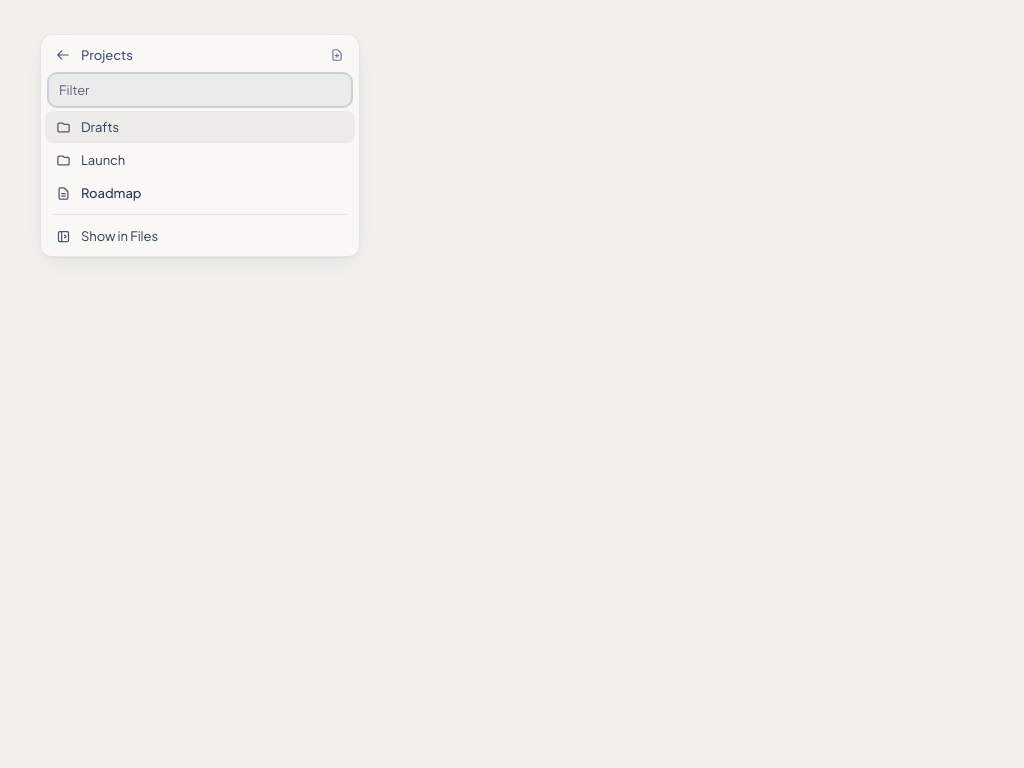
it: FolderPopover › backs out of naming with Escape, keeping the popover open
Step 1. Click the button named "New File" → (337, 55), box [323,41,351,69]
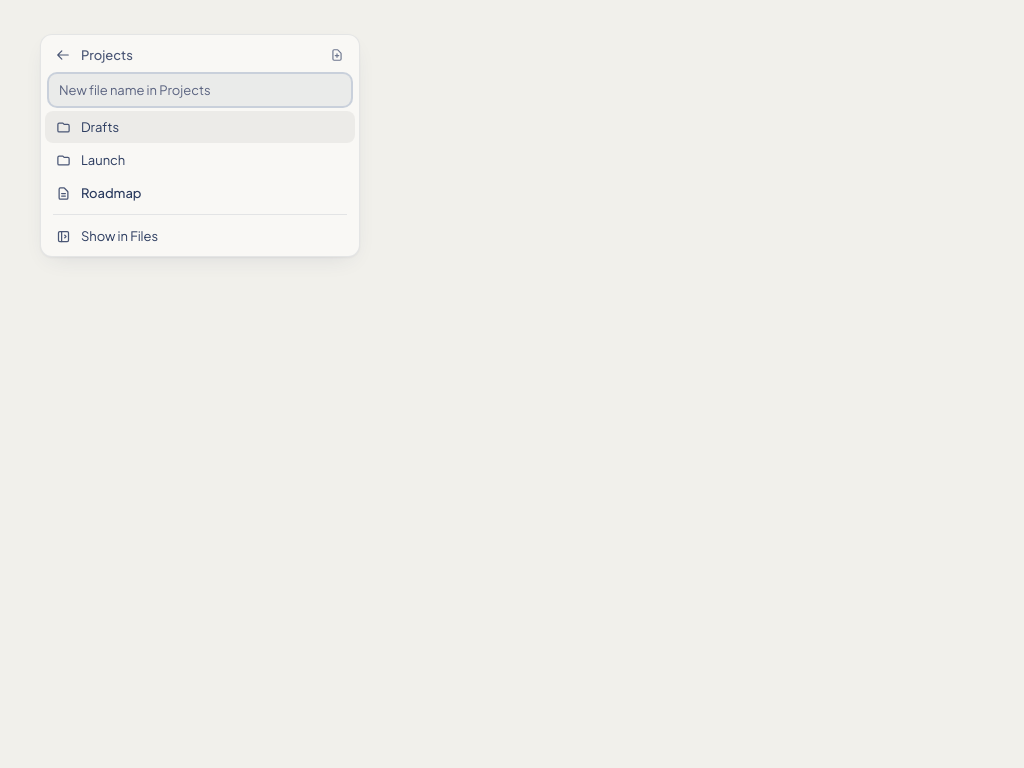
Step 2. Press Escape in the field labelled "New file name", box [49,74,351,106]
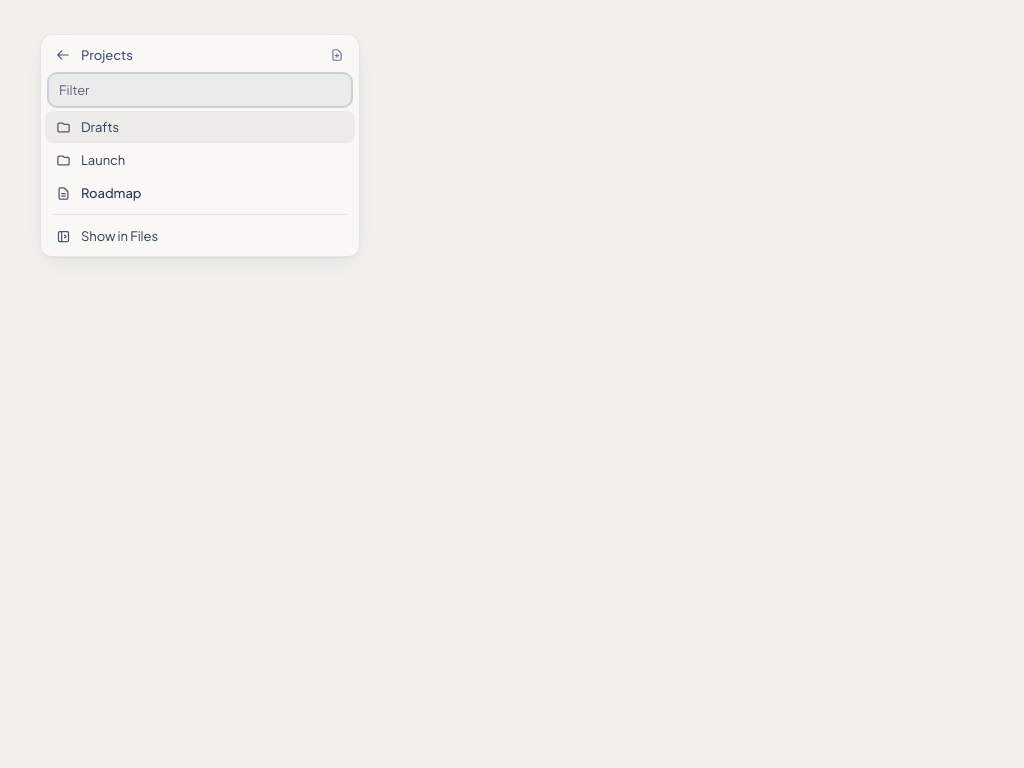
Now the field named "Filter this folder" is shown, box [49,74,351,106]
